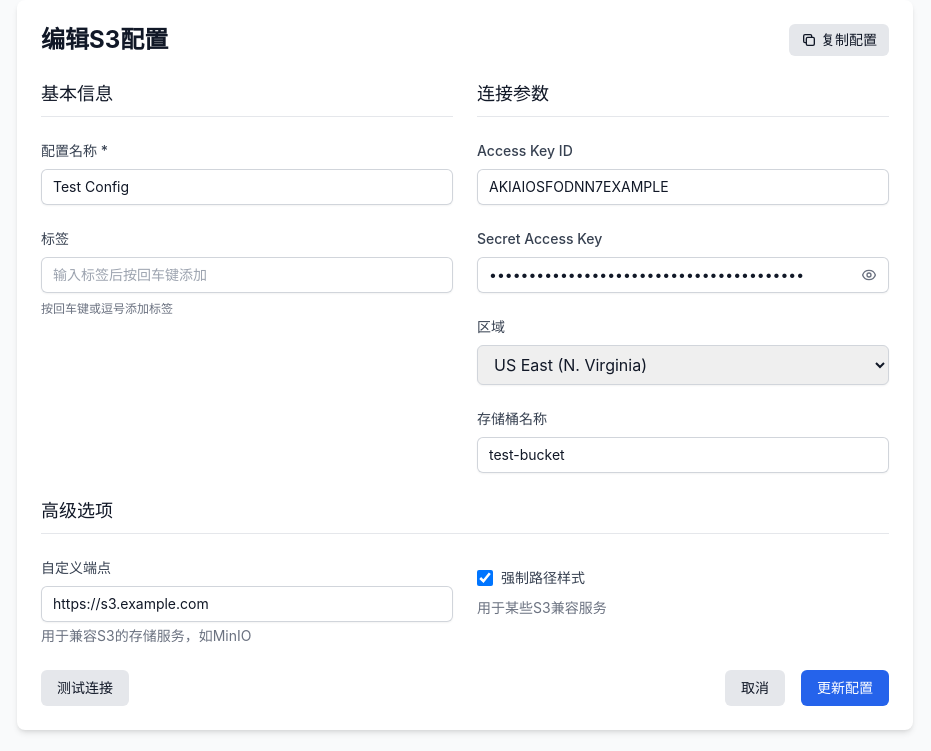
ConfigForm › Form Reset › should reset form when cancel is clicked
Step 1. Replace the text in the field showing "Test Config" with "Changed Name" → (247, 187), box [41,169,453,205]
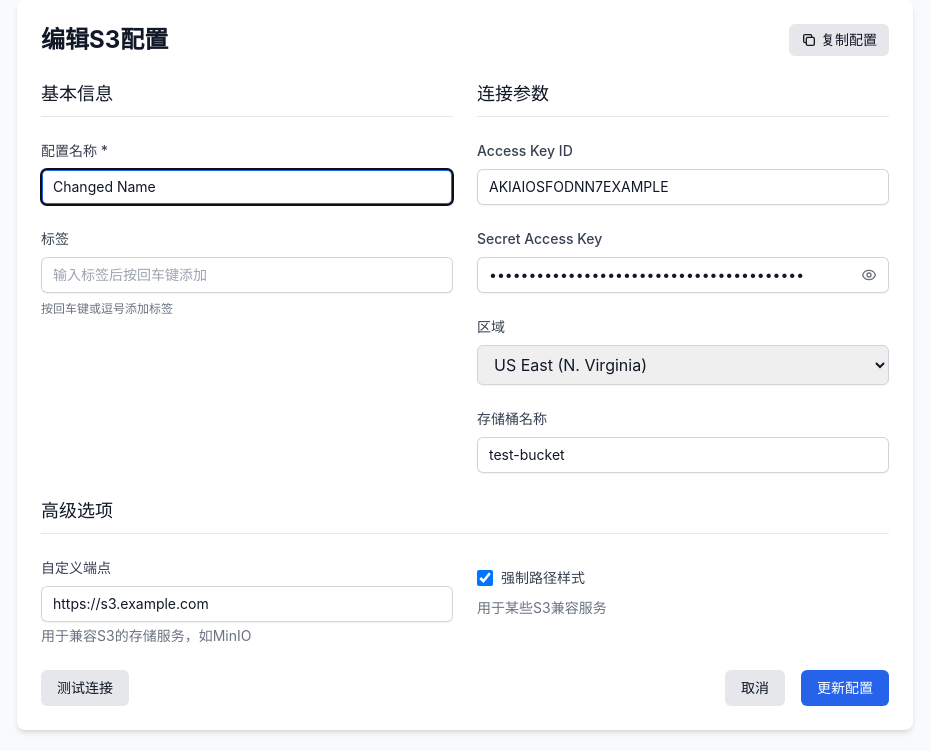
Step 2. Click the button "取消" → (755, 688), box [725,670,785,706]
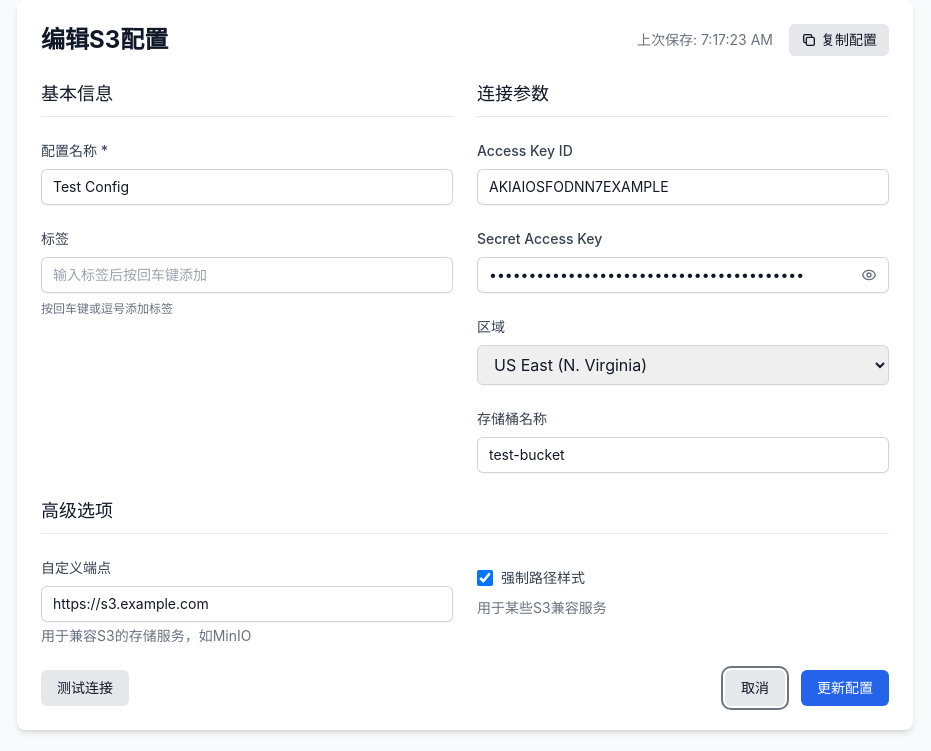
Now the field showing "Test Config" is shown, box [41,169,453,205]
